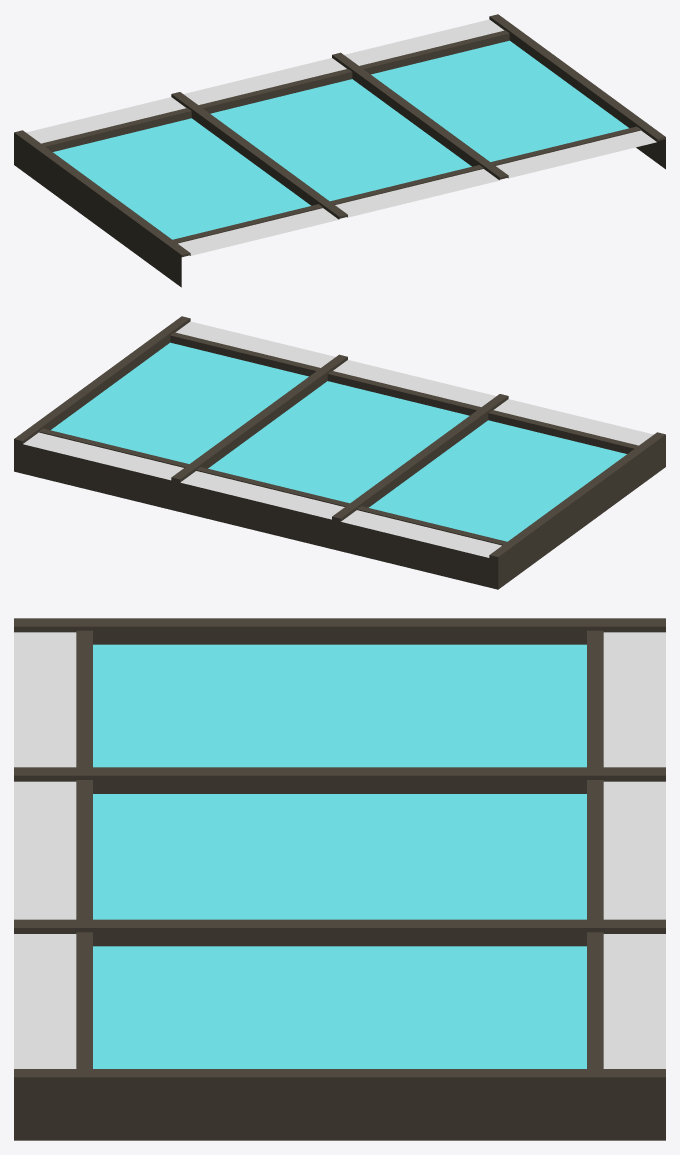
The model's file is P_F_OLDType1SansBF.fbx.
The picture shows the model from 3 angles, top to bottom: view 1: azimuth 30°, elevation 25°; view 2: azimuth 150°, elevation 25°; view 3: azimuth 270°, elevation 25°; orthographic projection. The views are drawn at different scales.
Visible parts, largest first — view 1: P_F_OLDType1SansBF; view 2: P_F_OLDType1SansBF; view 3: P_F_OLDType1SansBF.
Part boxes in pixels (box(x1,y1,x2,y2)): P_F_OLDType1SansBF: box(14, 14, 665, 287); P_F_OLDType1SansBF: box(14, 316, 665, 589); P_F_OLDType1SansBF: box(14, 618, 665, 1140).
Size of the model in its own units: 500 by 32.17 by 300.
